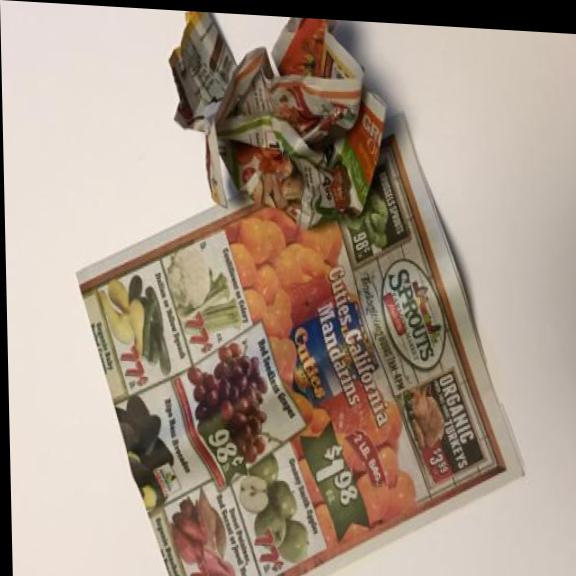Kertas: (64, 88, 534, 576), (160, 10, 400, 234)
